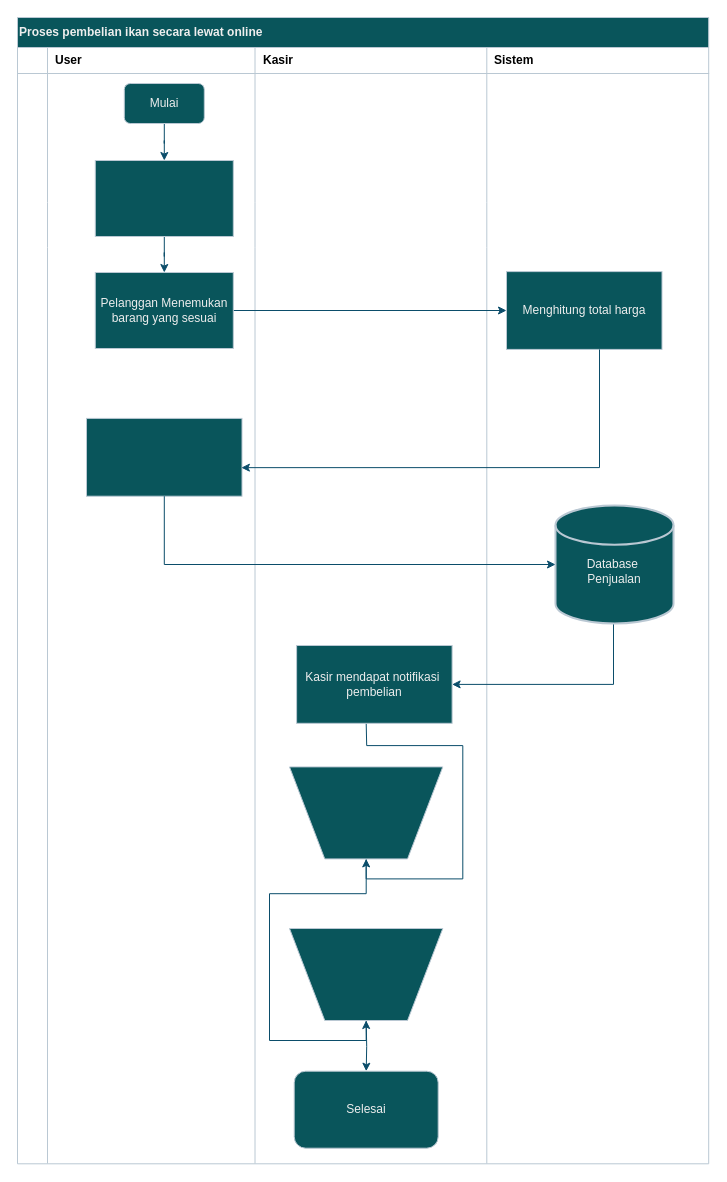
Image size: 727x1182. Some labels were removed from this diagram. The centre of each missing label's shape, as x and y in pixels:
"Kasir mengemas barang yang dipesan" belongs at point 365,812.
"Kasir mengirim barang pesanan" belongs at point 365,974.
"pelanggan membayar" belongs at point 164,456.
"Pelanggan Mencari Produk lewat aplikasi" belongs at point 163,198.
